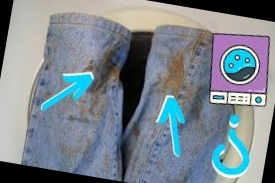earth: (163, 54, 188, 92), (100, 49, 121, 83)
